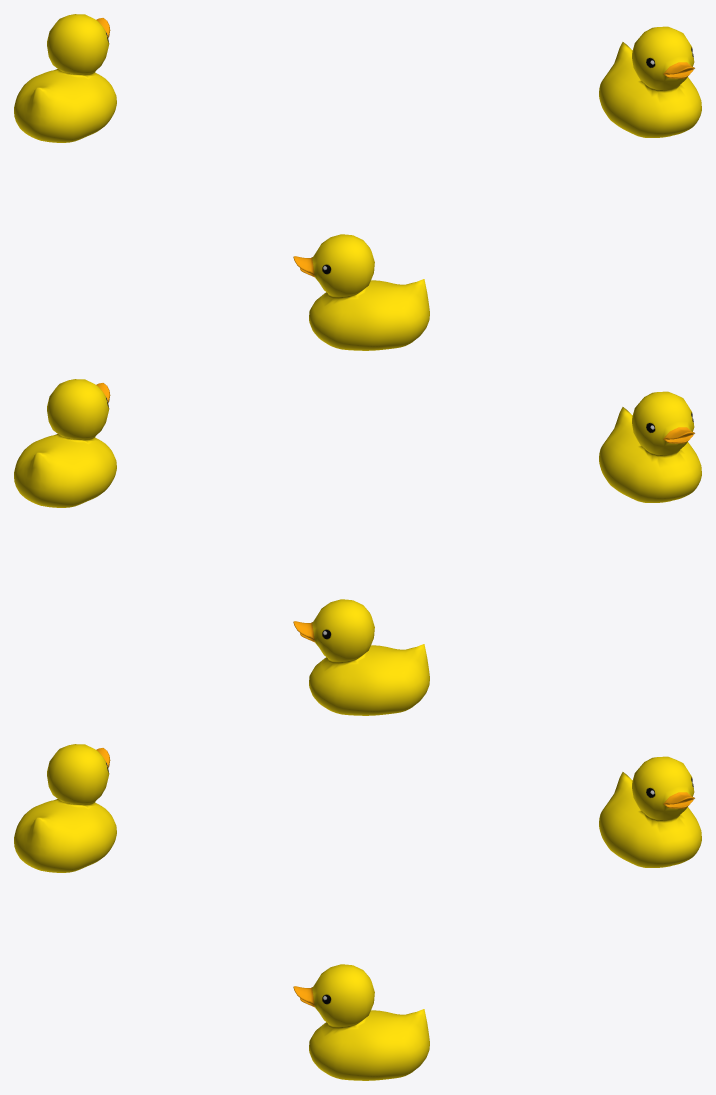
File: chicken.fbx
3 renders of one model, top to bottom at view 1: azimuth 30°, elevation 25°; view 2: azimuth 150°, elevation 25°; view 3: azimuth 270°, elevation 25°, orthographic.
Parts seen in each view (by area): view 1: polySurface7; view 2: polySurface7; view 3: polySurface7.
Part boxes in pixels (box(x1,y1,x2,y2)): polySurface7: box(14, 14, 701, 350); polySurface7: box(14, 379, 701, 715); polySurface7: box(14, 744, 701, 1080).
Size of the model in its own units: 12.85 by 2.38 by 14.29.
Materials: 1 (1 with a texture image).
